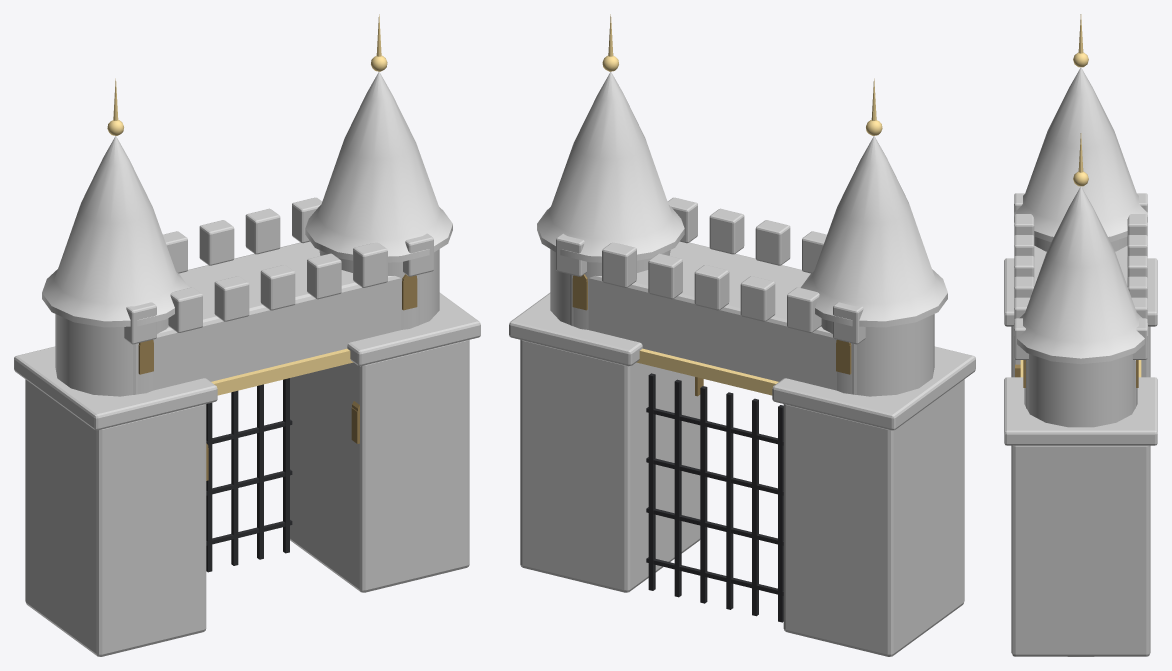
File: ench_gatehouse.fbx
The picture shows the model from 3 angles, left to right: view 1: azimuth 30°, elevation 25°; view 2: azimuth 150°, elevation 25°; view 3: azimuth 270°, elevation 25°; orthographic projection. The views are drawn at different scales.
Visible parts, largest first — view 1: stonepale_1, slateteal_1, iron_1, gold_1, window_1; view 2: stonepale_1, slateteal_1, iron_1, gold_1, window_1; view 3: stonepale_1, slateteal_1, gold_1, window_1.
Part boxes in pixels (<box>): stonepale_1: <box>14,197,480,656</box>; slateteal_1: <box>42,71,452,327</box>; iron_1: <box>206,378,292,572</box>; gold_1: <box>107,14,387,395</box>; window_1: <box>138,274,417,480</box>; stonepale_1: <box>509,197,975,656</box>; slateteal_1: <box>537,71,947,327</box>; iron_1: <box>646,373,783,622</box>; gold_1: <box>602,14,882,395</box>; window_1: <box>572,274,851,396</box>; stonepale_1: <box>1004,193,1157,656</box>; slateteal_1: <box>1014,67,1147,364</box>; gold_1: <box>1020,14,1141,377</box>; window_1: <box>1015,360,1138,387</box>.
Bounding box in the file's own units: 2.29 × 3.02 × 0.84.
